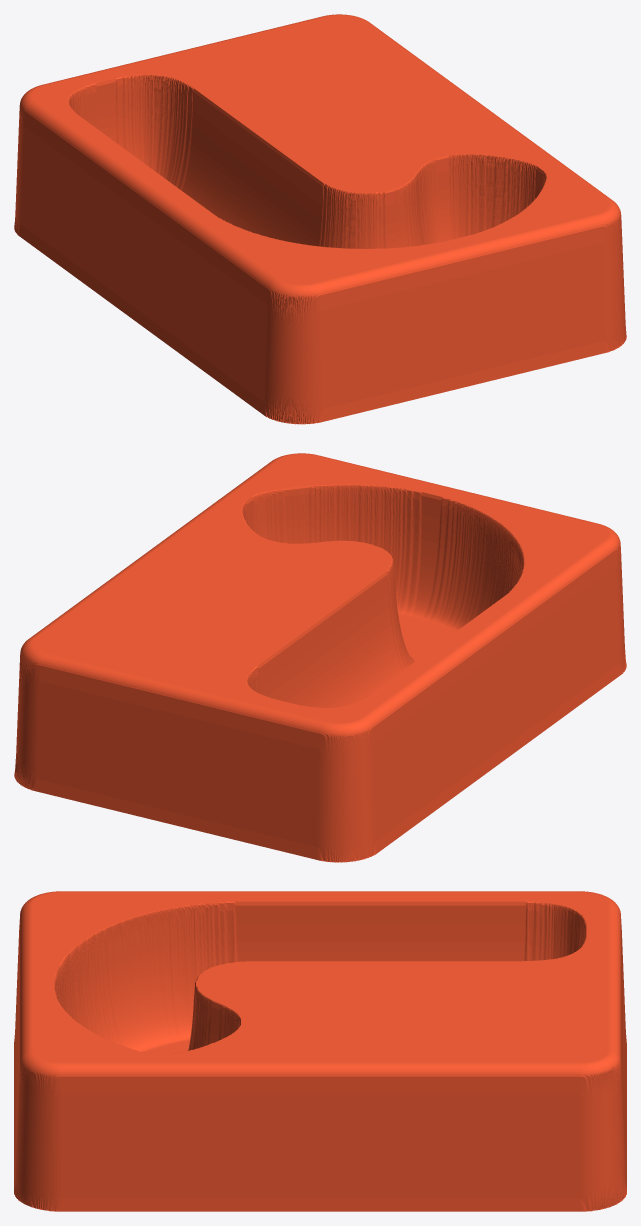
Rendered from mold.glb.
The picture shows the model from 3 angles, top to bottom: view 1: azimuth 30°, elevation 25°; view 2: azimuth 150°, elevation 25°; view 3: azimuth 270°, elevation 25°; orthographic projection. The views are drawn at different scales.
Visible parts, largest first — view 1: geometry_0; view 2: geometry_0; view 3: geometry_0.
Boxes of the visible parts, x1,y1,x2,y2 form: geometry_0: (14,14,626,424); geometry_0: (14,453,626,862); geometry_0: (14,891,626,1211).
Bounding box in the file's own units: 0.0846 × 0.0299 × 0.1178.
